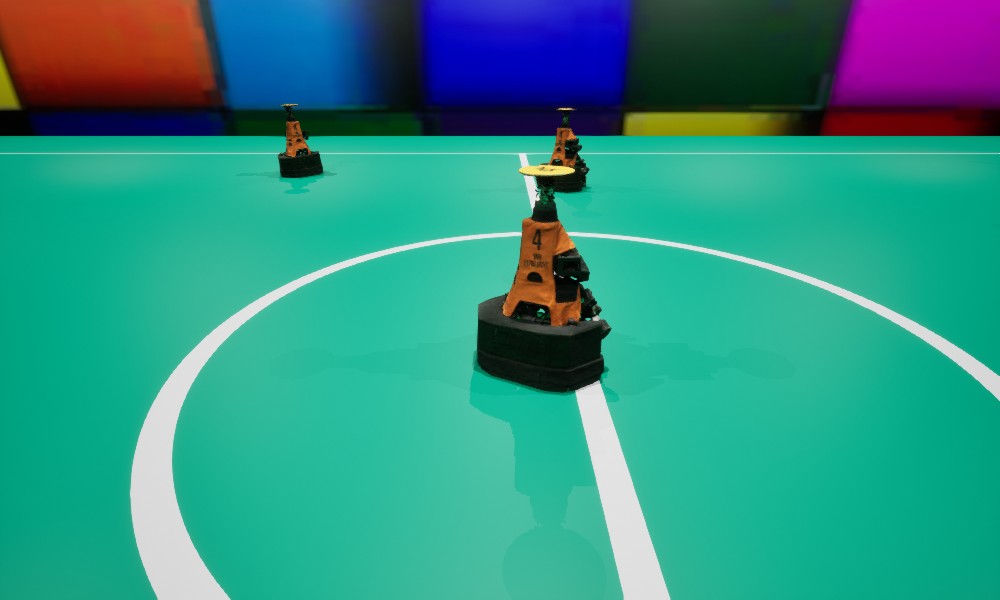0 orange robot TechUnited: (477, 165, 611, 392), (537, 108, 589, 192), (278, 104, 322, 177)
